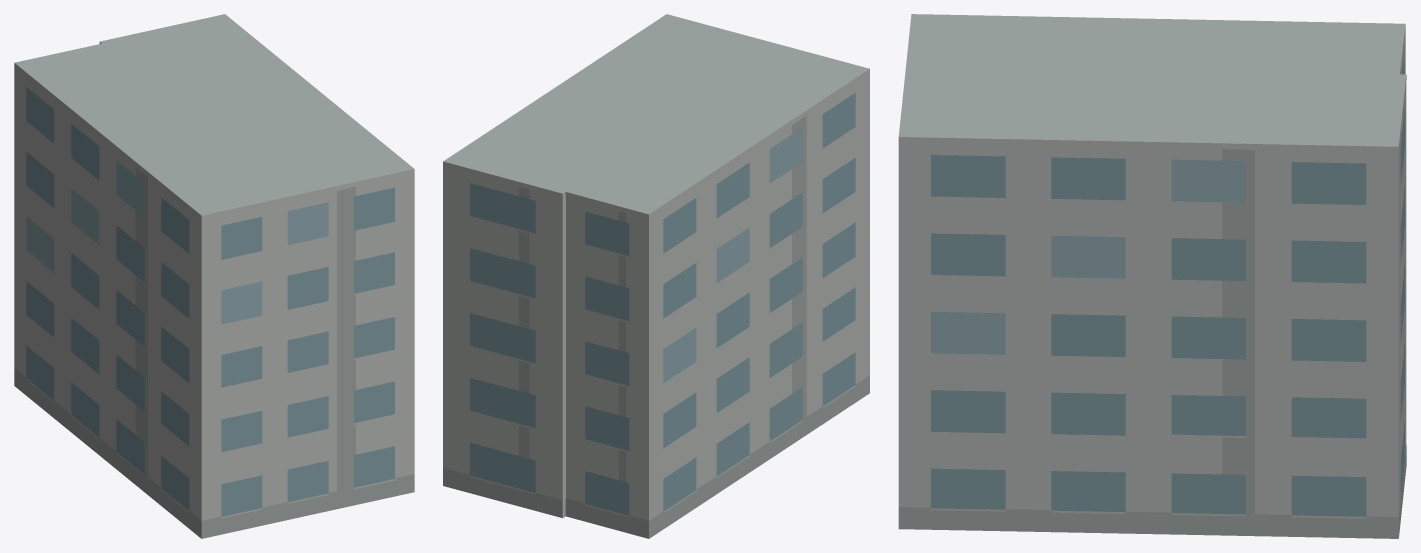
File: survey-upis-32907076.glb
3 views of the same model, side by side, from view 1: azimuth 30°, elevation 25°; view 2: azimuth 150°, elevation 25°; view 3: azimuth 270°, elevation 25° (orthographic). The views are drawn at different scales.
Parts seen in each view (by area): view 1: survey-upis-32907076.tmp; view 2: survey-upis-32907076.tmp; view 3: survey-upis-32907076.tmp.
Boxes of the visible parts, x1,y1,x2,y2 form: survey-upis-32907076.tmp: (14,14,414,538); survey-upis-32907076.tmp: (443,14,869,538); survey-upis-32907076.tmp: (898,14,1406,538).
Size of the model in its own units: 11.56 by 15.9 by 18.67.
